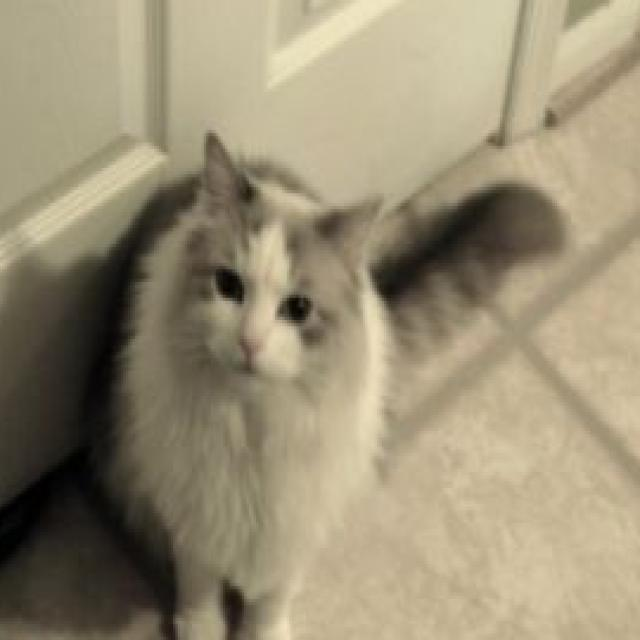Ragdoll: (70, 123, 578, 640)
